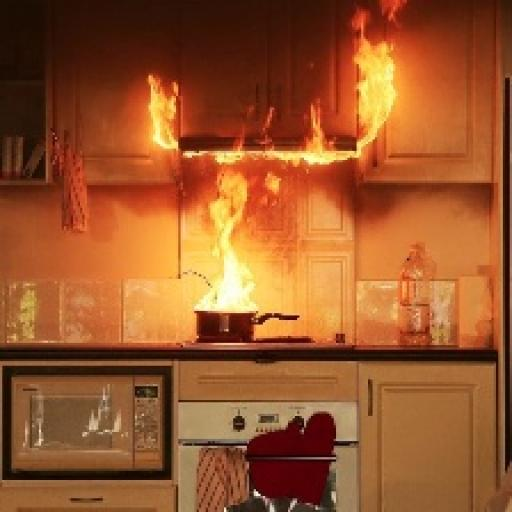fire and smoke: (256, 9, 393, 160), (194, 128, 256, 311), (149, 75, 176, 149)
